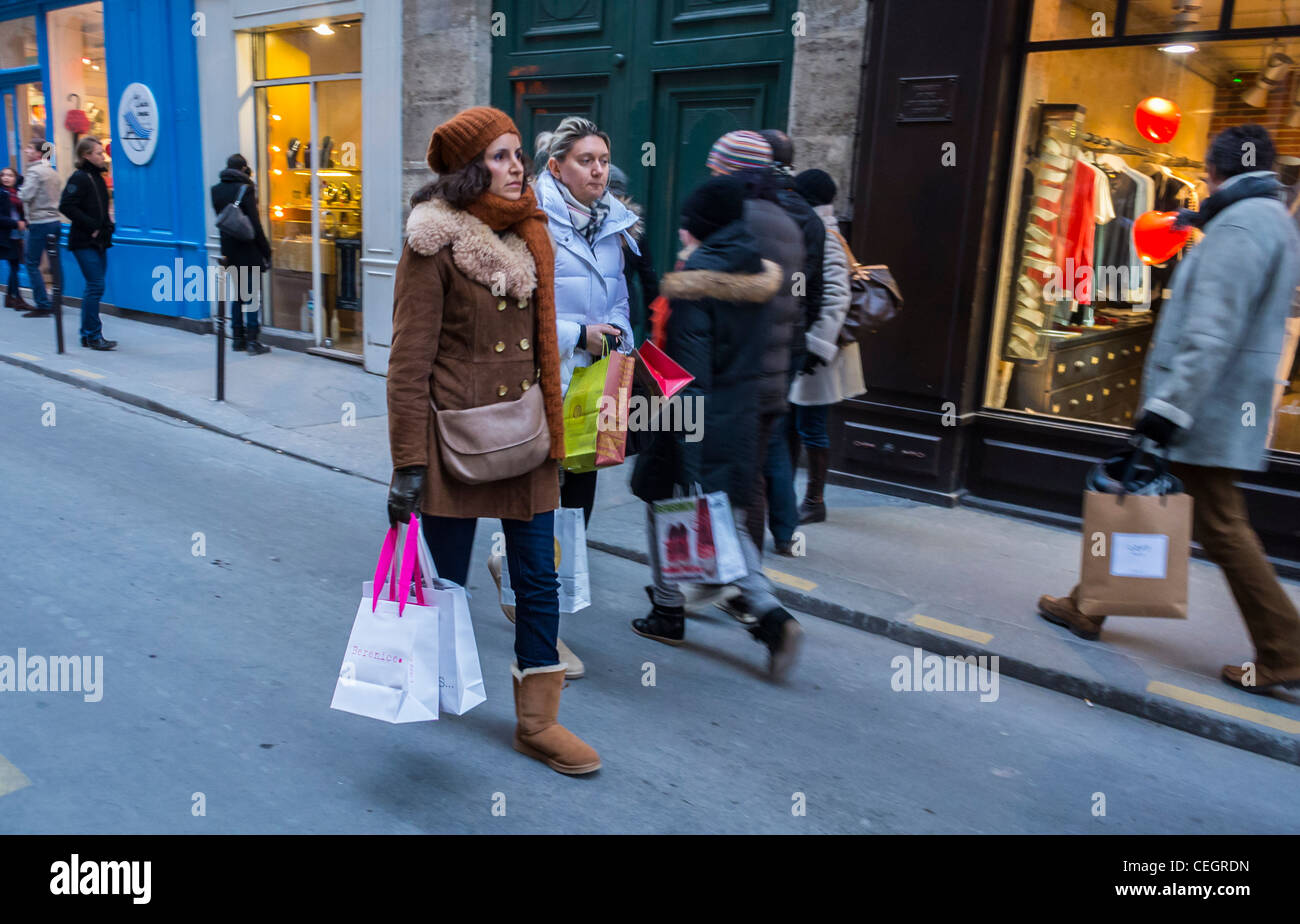person: (327, 99, 604, 784), (1035, 123, 1300, 698), (634, 178, 787, 683), (526, 116, 635, 535), (706, 128, 799, 563), (796, 158, 904, 529), (765, 128, 822, 394), (56, 135, 115, 351), (209, 150, 271, 355), (20, 141, 56, 319), (1, 161, 20, 308)
